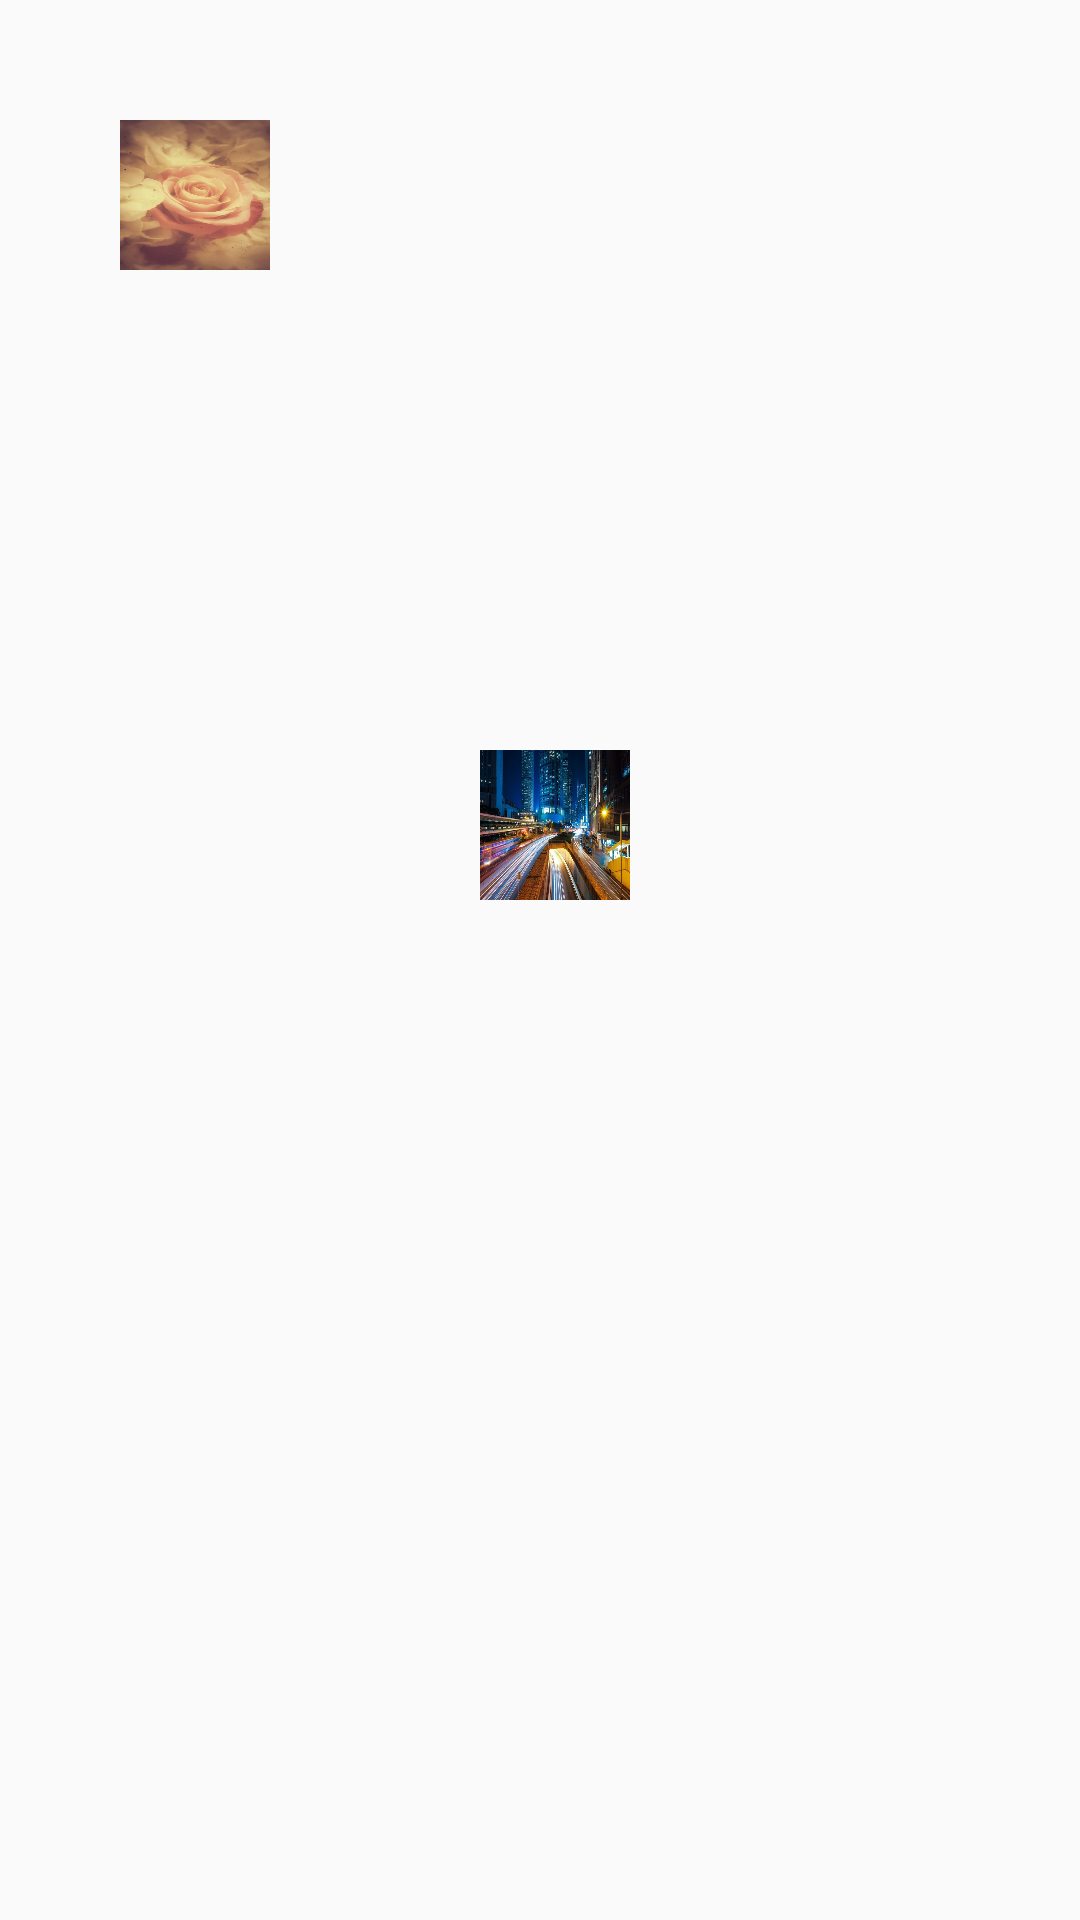

Icons on this 1080×1920 Android screen, each with the point to tap as point (x, y):
flower: point (195, 195)
